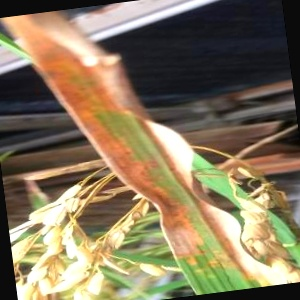Leaf_Blast: (126, 101, 216, 298)
